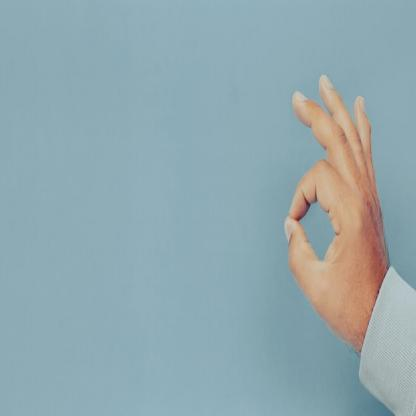ok: (281, 72, 388, 338)
